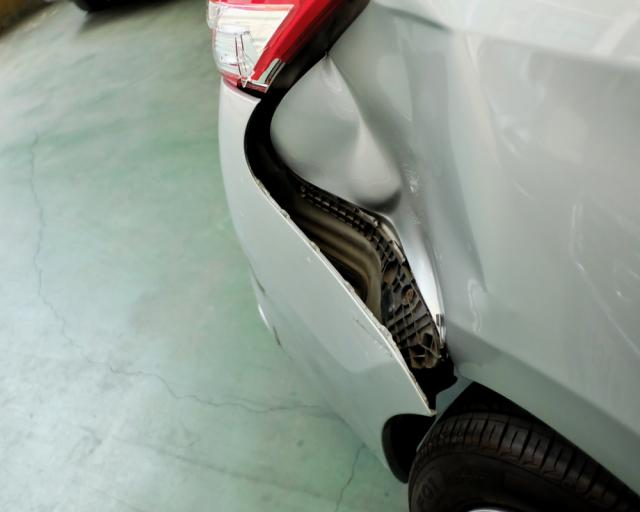dent: (279, 5, 530, 361)
lamp broken: (208, 0, 338, 94)
